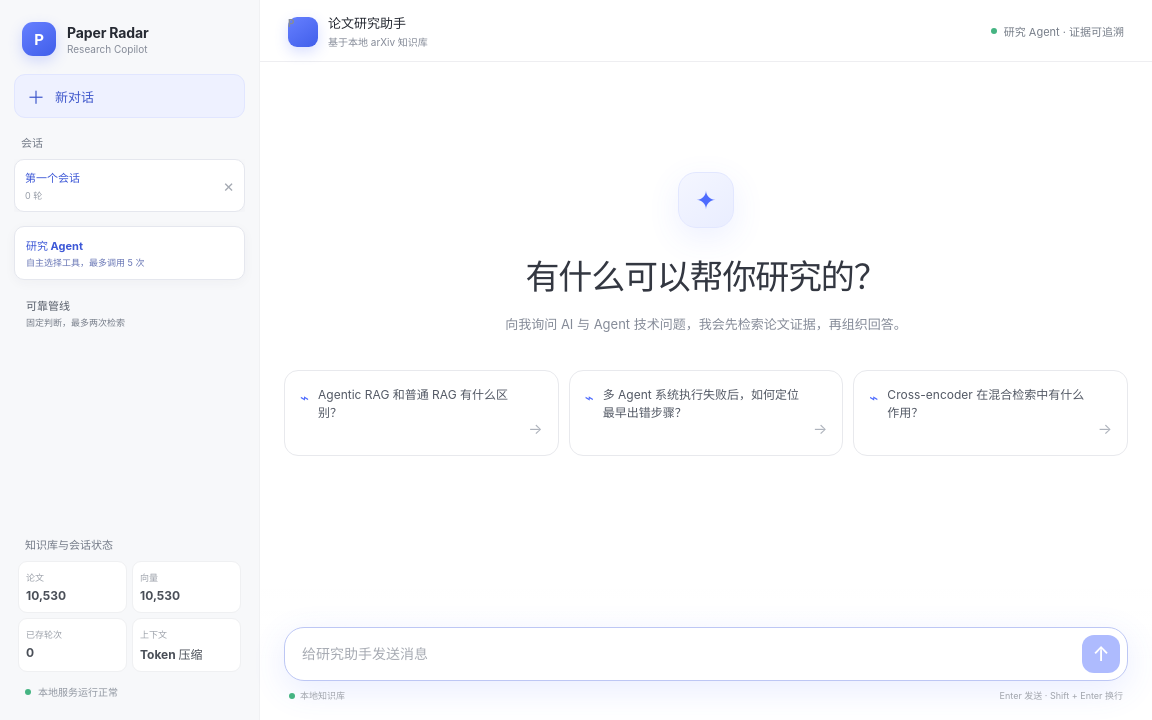
it: App › submits only conversation id, question, mode, and top-k
The image size is (1152, 720).
Expected: the button named "发送" is shown, [1082,635,1120,673]
Type "Agentic RAG 是什么？" into the text box named "继续追问或开始一个新技术话题" at (692, 654), box [302,635,1082,673]
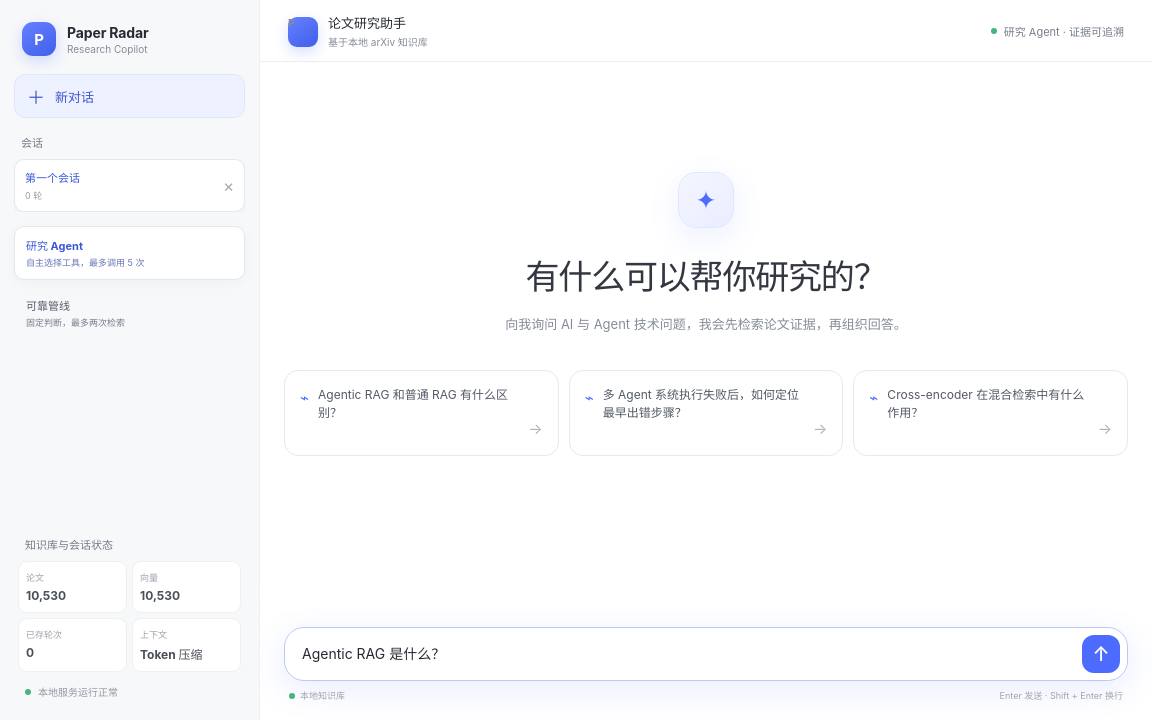
Click the button named "发送" at (1101, 654), box [1082,635,1120,673]
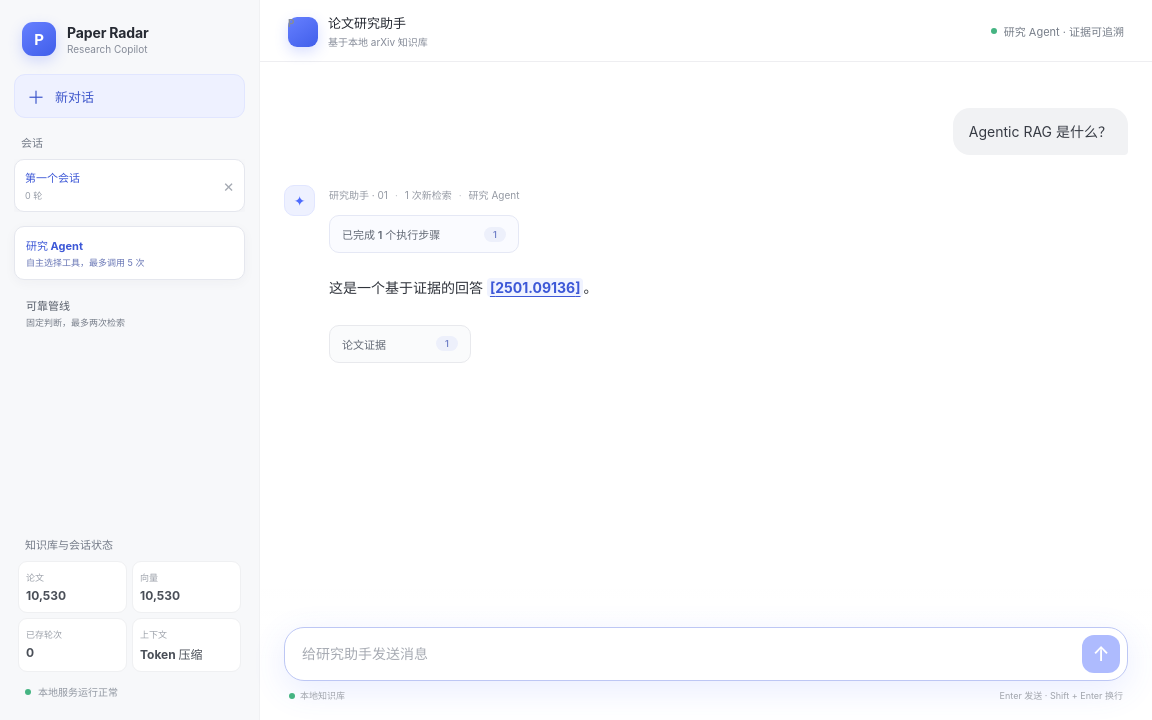
Result: the text "这是一个基于证据的回答 [2501.09136] 。" is shown at [329,278,598,297]
